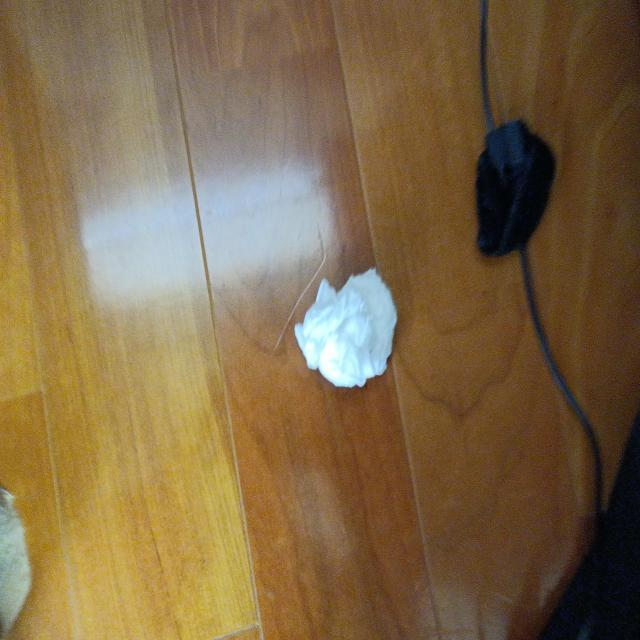Paper: (294, 266, 389, 359)
